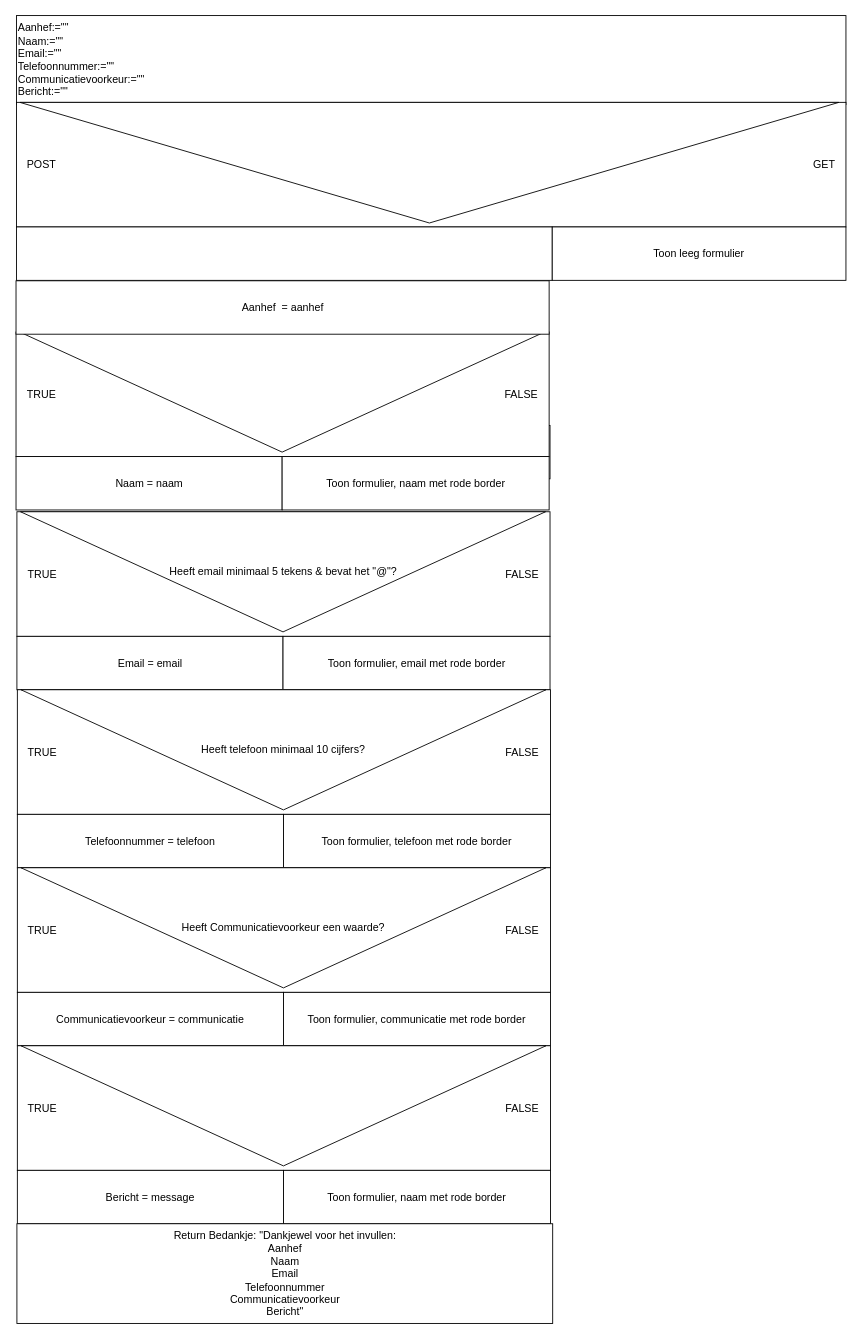
This 862x1339 diagram has some shape labels left out. The box of each missing label's shape, as (x1, y1, x2, y2) in pixels:
Heeft bericht minimaal 5 tekens?: (20, 1045, 546, 1166)
Heeft naam minimaal 1 teken?: (19, 331, 545, 452)
POST of GET verzoek?: (19, 101, 839, 223)
